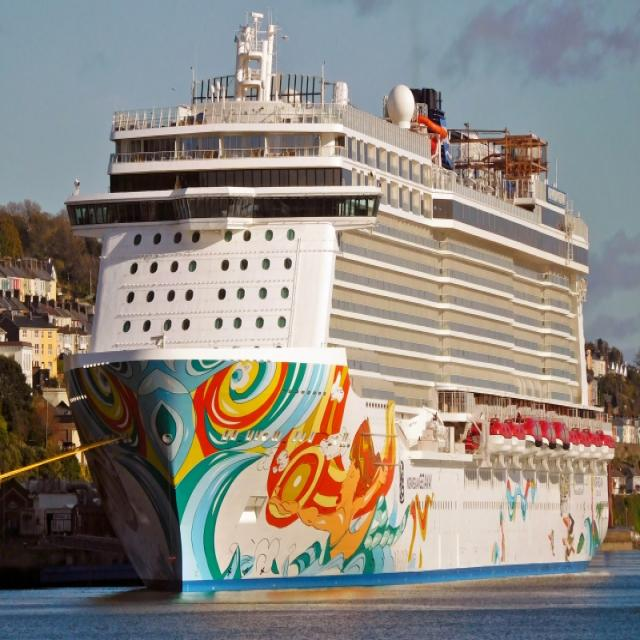cruises: (60, 8, 622, 608)
